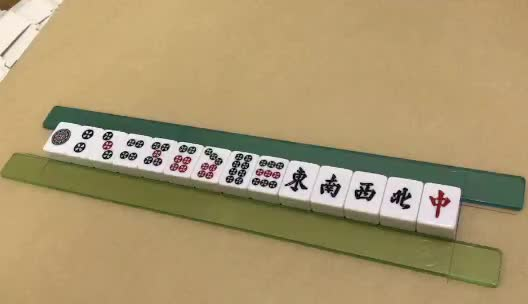1p: (51, 129, 71, 146)
1z: (285, 167, 309, 192)
2p: (75, 130, 94, 152)
2z: (319, 173, 342, 197)
3p: (102, 132, 113, 160)
3z: (355, 181, 376, 200)
4p: (120, 139, 143, 161)
4z: (390, 187, 412, 210)
5p: (144, 136, 170, 166)
6p: (170, 145, 196, 172)
7p: (197, 146, 222, 179)
7z: (428, 188, 451, 219)
8p: (226, 153, 251, 184)
9p: (251, 159, 284, 188)
